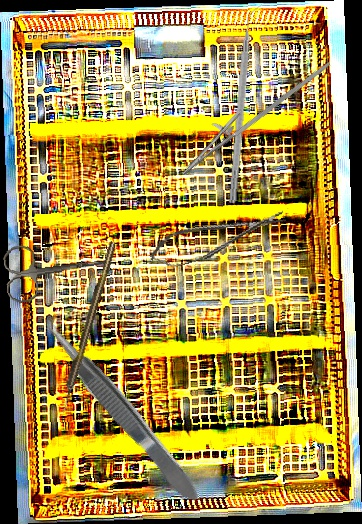Chopper: (228, 2, 265, 205)
Hook Surgical: (57, 240, 118, 415)
Iris Scissors: (1, 234, 114, 305)
Micro Scissor: (145, 203, 291, 273)
Needle Holder: (171, 35, 332, 192)
Tissue Forceps: (37, 312, 206, 510)
